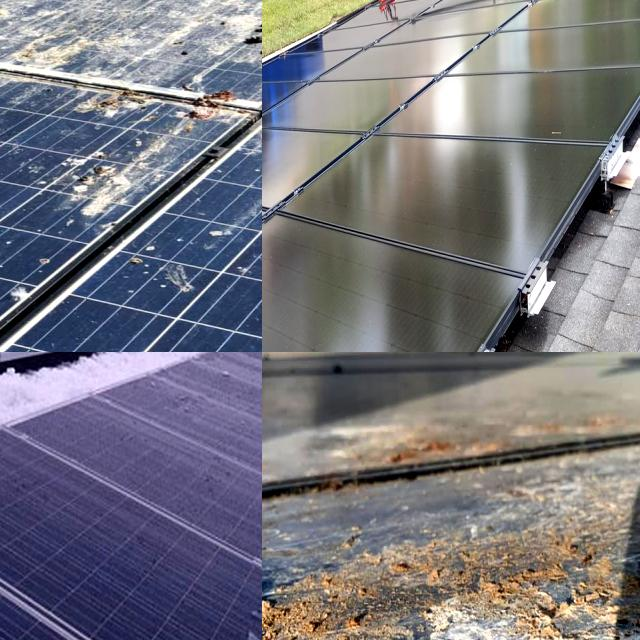bird: (389, 528, 626, 640), (50, 125, 168, 224), (262, 527, 361, 640), (0, 250, 74, 338), (195, 199, 262, 277), (199, 3, 262, 79), (0, 273, 76, 332), (79, 0, 175, 44), (0, 0, 86, 49), (0, 77, 49, 143), (0, 180, 47, 247), (0, 0, 57, 44)
panel: (0, 401, 112, 490), (56, 352, 198, 391), (48, 352, 231, 382), (0, 352, 67, 404), (0, 352, 49, 415), (0, 352, 63, 387), (0, 352, 57, 383), (201, 352, 262, 380)
